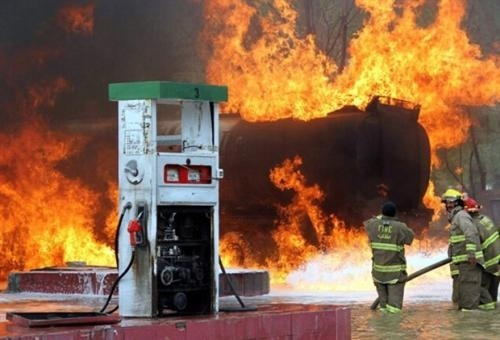fire: (197, 0, 499, 122), (3, 44, 119, 314), (222, 158, 376, 294)
